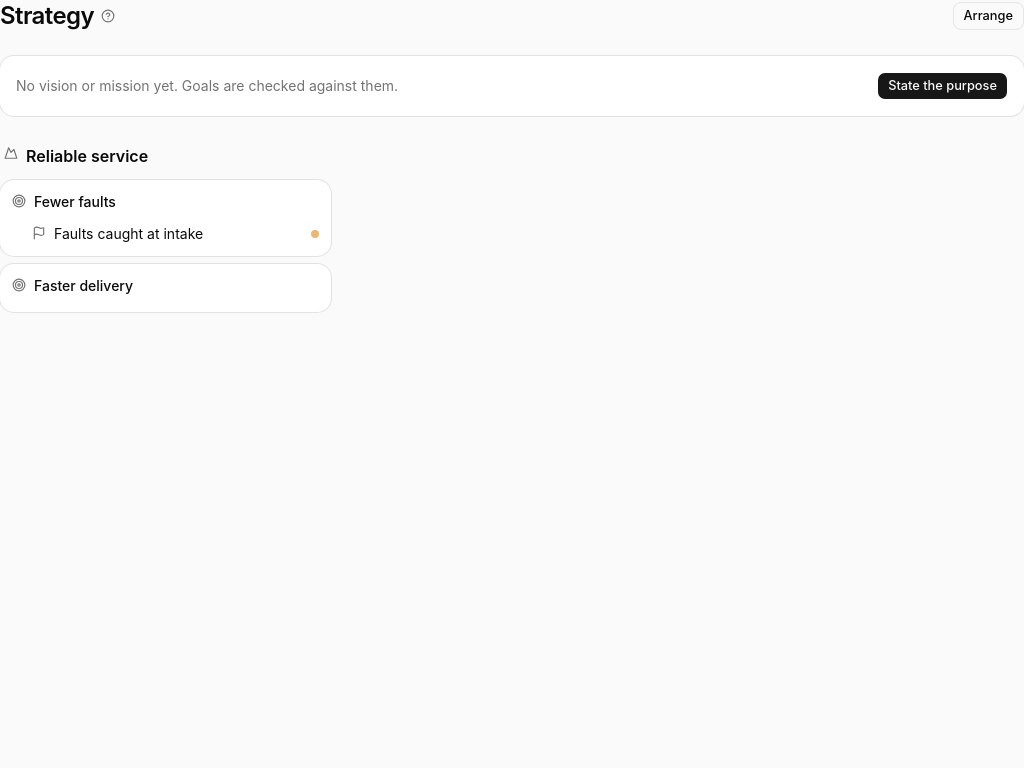
Test: StrategyView › opens a goal's aim and rationale
Click the button "Reliable service" at (87, 156), box [0,140,331,172]
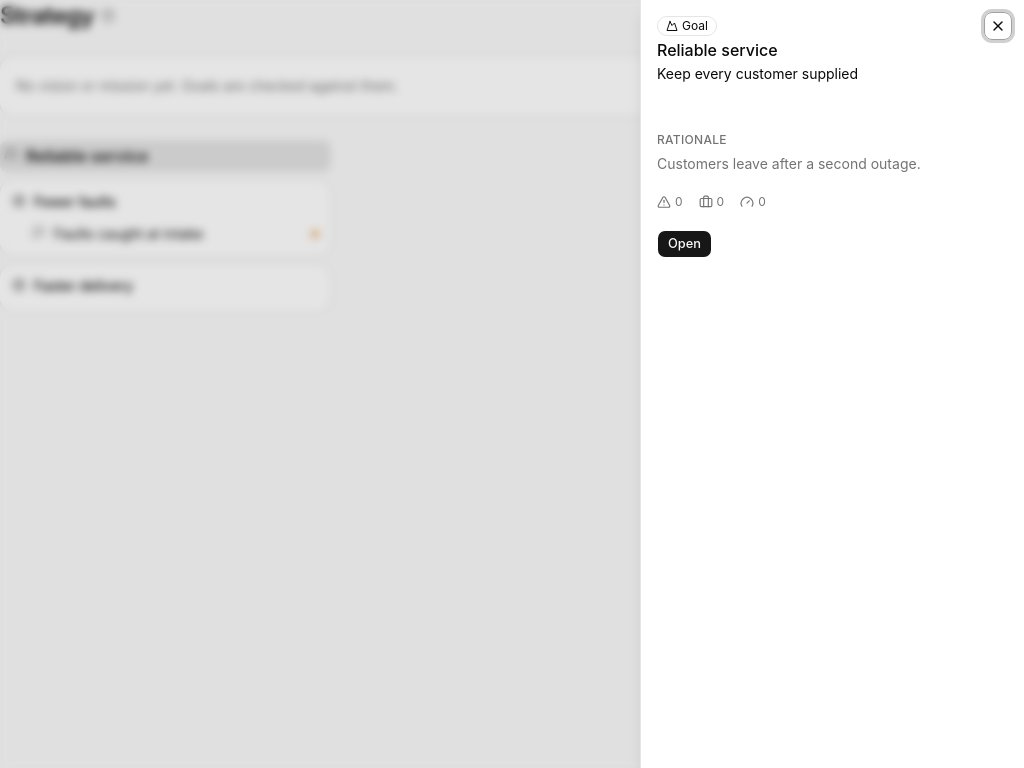
Now the text "Keep every customer supplied" is shown, box [657,65,858,82]
Now the text "Customers leave after a second outage." is shown, box [657,155,921,172]
